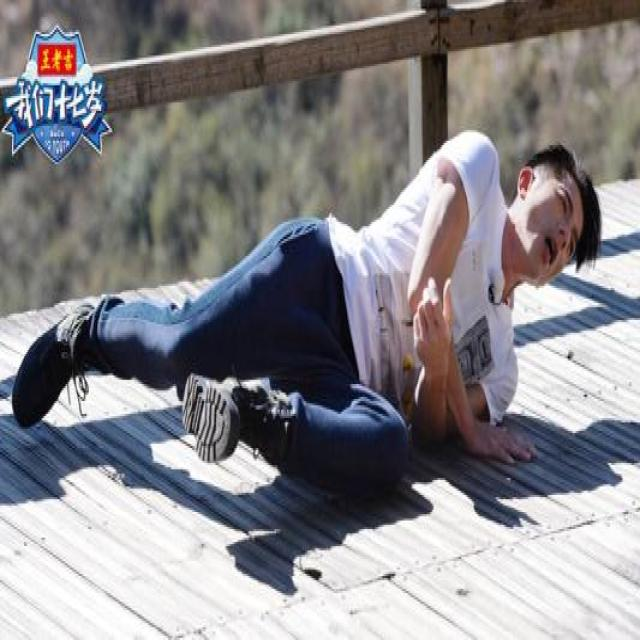down: (11, 90, 600, 501)
